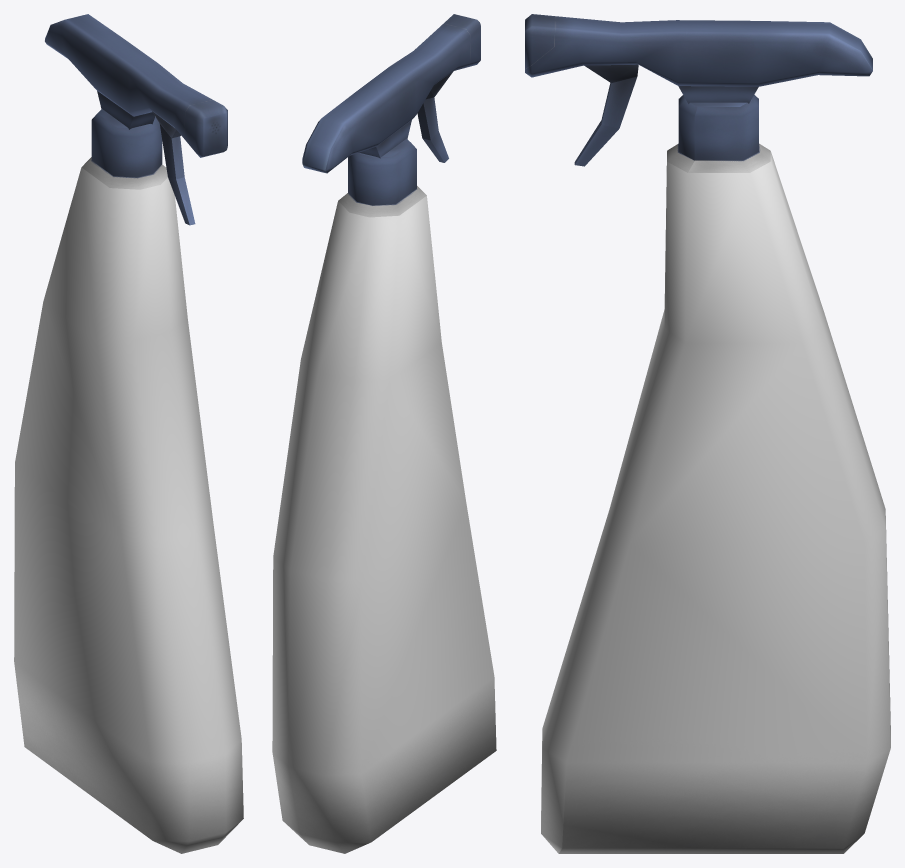
Rendered from spraybottle.FBX.
The picture shows the model from 3 angles, left to right: view 1: azimuth 30°, elevation 25°; view 2: azimuth 150°, elevation 25°; view 3: azimuth 270°, elevation 25°; orthographic projection. The views are drawn at different scales.
Parts seen in each view (by area): view 1: Box167; view 2: Box167; view 3: Box167.
Boxes of the visible parts, x1,y1,x2,y2 form: Box167: (14, 14, 243, 853); Box167: (272, 14, 496, 853); Box167: (525, 14, 890, 853).
Size of the model in its own units: 16.7 by 131 by 52.82.
Materials: 1 (1 with a texture image).
